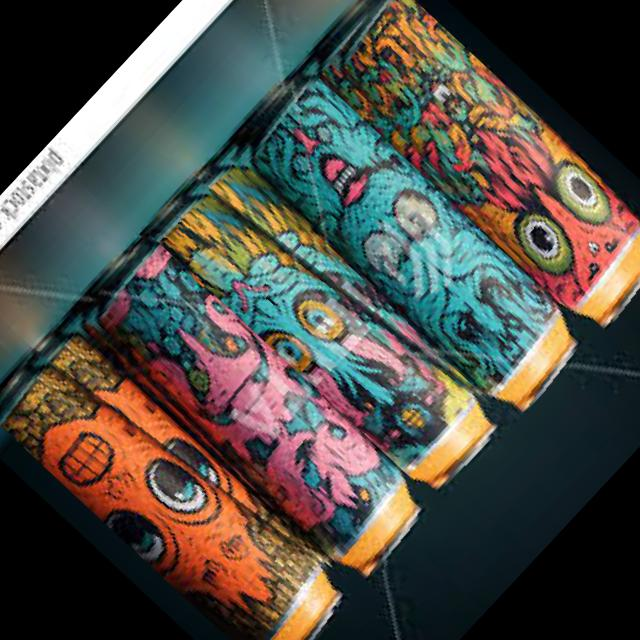Cans: (214, 63, 596, 430), (138, 145, 517, 510), (62, 232, 440, 596), (0, 315, 360, 640), (306, 0, 640, 339)
